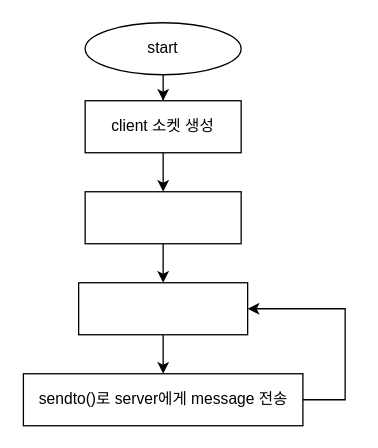
This 378x448 diagram has some shape labels left out. Here are the shapes that lost their labels. From the top down, the centre of each, then its label:
point (162, 217): 서버에 connect
point (162, 308): scanf("%s", message);
